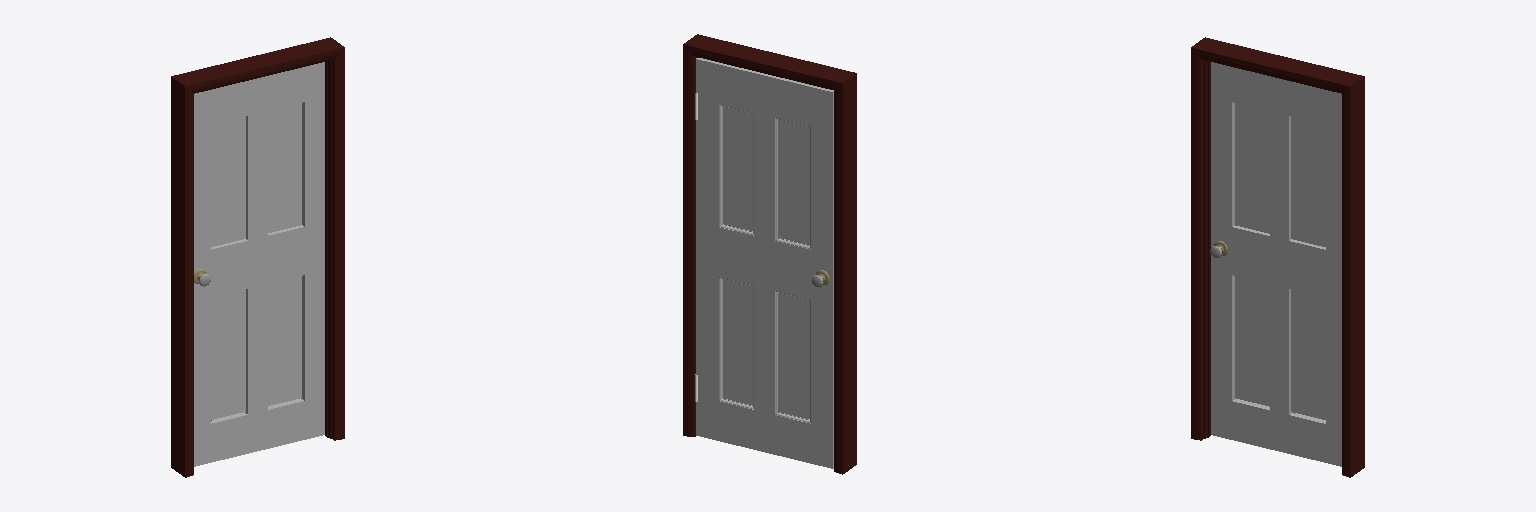
The model's file is door1.obj.
The picture shows the model from 3 angles: view 1: azimuth 30°, elevation 25°; view 2: azimuth 150°, elevation 25°; view 3: azimuth 330°, elevation 25°; orthographic projection.
Parts seen in each view (by area): view 1: extrudedSurface981_43_99, pCube222_5_61, pCube227_11_67, pCube224_8_64, pPlane730_29_29, pPlane732_31_31, pPlane731_30_30, pPlane729_28_28, extrudedSurface98_42_98, pCube223_6_62, pCube226_10_66, extrudedSurface982_50_106 (+7 smaller); view 2: extrudedSurface981_43_99, pCube222_5_61, pCube224_8_64, pCube227_11_67, pCube226_10_66, pPlane732_31_87, pCube223_6_62, pPlane730_29_85, pPlane731_30_86, pPlane729_28_84, extrudedSurface98_42_98, extrudedSurface982_50_106 (+6 smaller); view 3: extrudedSurface98_42_98, pCube224_8_64, pCube227_11_67, pCube222_5_61, pPlane732_31_31, pPlane729_28_28, pPlane730_29_29, pPlane731_30_30, extrudedSurface981_43_99, pCube223_6_62, pCube226_10_66, extrudedSurface982_50_106 (+7 smaller).
Part boxes in pixels (x1,y1,x2,y2): extrudedSurface981_43_99: (171,77,193,477); pCube222_5_61: (305,62,324,439); pCube227_11_67: (245,111,267,414); pCube224_8_64: (194,90,210,466); pPlane730_29_29: (211,117,245,246); pPlane732_31_31: (211,289,245,419); pPlane731_30_30: (268,276,301,405); pPlane729_28_28: (268,103,301,232); extrudedSurface98_42_98: (335,48,344,440); pCube223_6_62: (211,398,304,462); pCube226_10_66: (211,67,304,124); extrudedSurface982_50_106: (175,40,344,93); extrudedSurface981_43_99: (835,74,856,474); pCube222_5_61: (696,58,718,440); pCube224_8_64: (812,87,833,468); pCube227_11_67: (755,112,773,415); pCube226_10_66: (718,63,811,125); pPlane732_31_87: (779,293,809,418); pCube223_6_62: (718,402,811,463); pPlane730_29_85: (779,120,809,244); pPlane731_30_86: (723,279,752,405); pPlane729_28_84: (723,107,752,230); extrudedSurface98_42_98: (683,45,691,436); extrudedSurface982_50_106: (683,34,856,89); extrudedSurface98_42_98: (1342,77,1364,477); pCube224_8_64: (1211,62,1231,439); pCube227_11_67: (1270,112,1292,414); pCube222_5_61: (1326,90,1341,466); pPlane732_31_31: (1235,276,1269,406); pPlane729_28_28: (1291,117,1325,246); pPlane730_29_29: (1235,103,1269,233); pPlane731_30_30: (1291,290,1325,419); extrudedSurface981_43_99: (1191,48,1200,440); pCube223_6_62: (1232,399,1325,462); pCube226_10_66: (1232,67,1325,124); extrudedSurface982_50_106: (1191,40,1360,93).
Size of the model in its own units: 91.44 by 214 by 18.23.